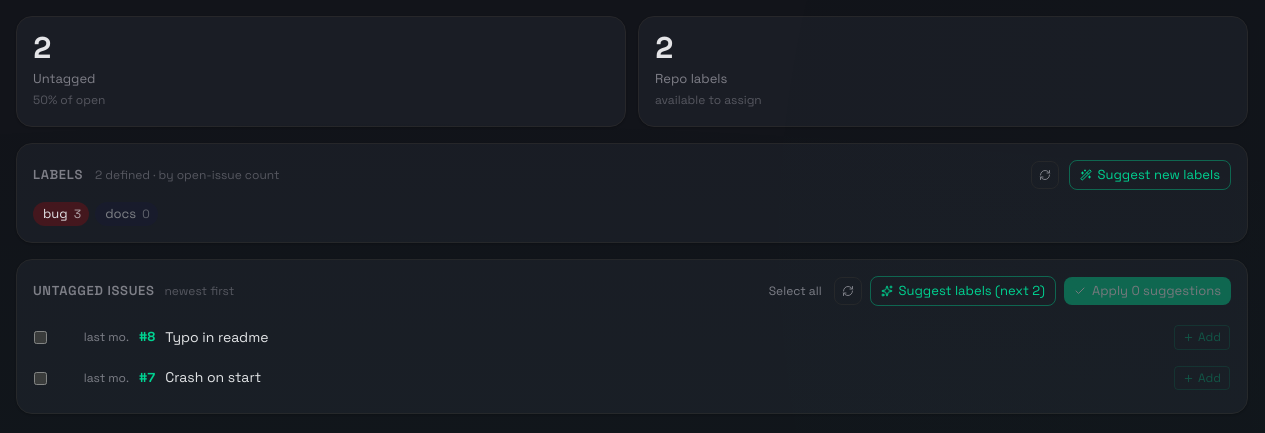
Test: TaggingView › unstaging a suggested chip removes it from what would be applied
Expected: the text "Crash on start" is shown, top-left (165, 368), bottom-right (261, 386)
Click the button "Suggest labels (next 2)".
click(963, 291)  # box top-left (870, 276), bottom-right (1056, 306)
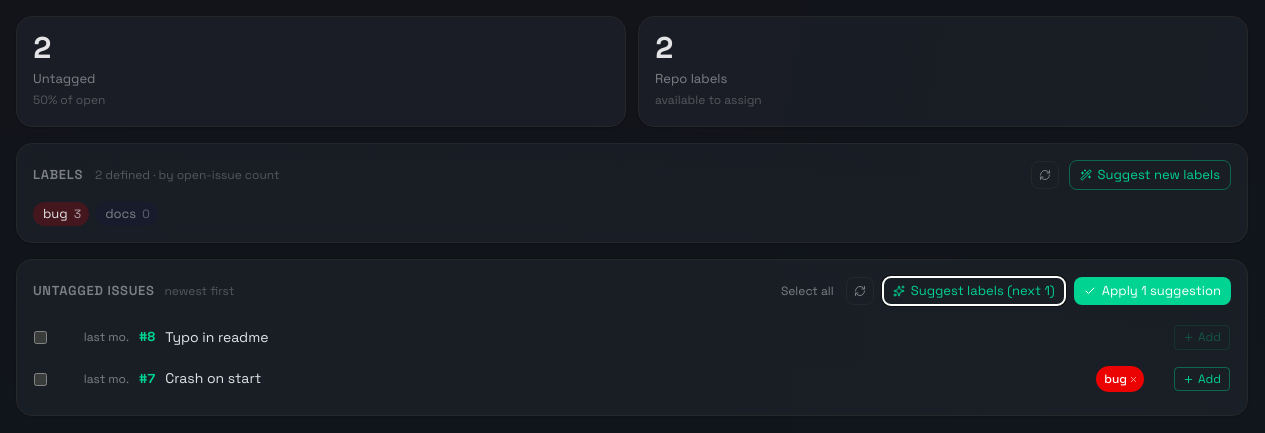
Result: the button "Apply 1 suggestion" is shown at top-left (1074, 277), bottom-right (1231, 305)
Click the button "bug".
click(1120, 379)  # box top-left (1096, 366), bottom-right (1144, 392)
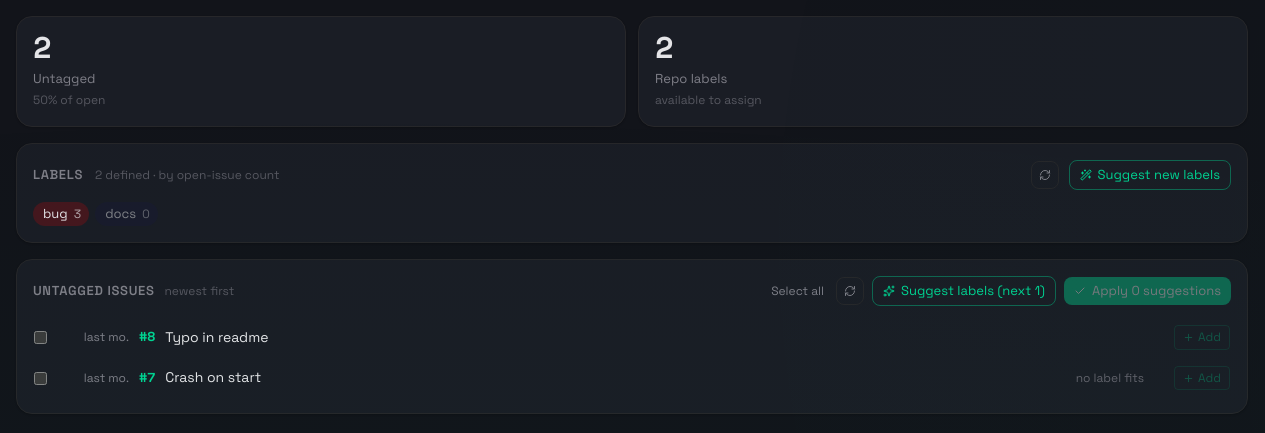
Result: the button "Apply 0 suggestions" is disabled at top-left (1064, 277), bottom-right (1231, 305)
